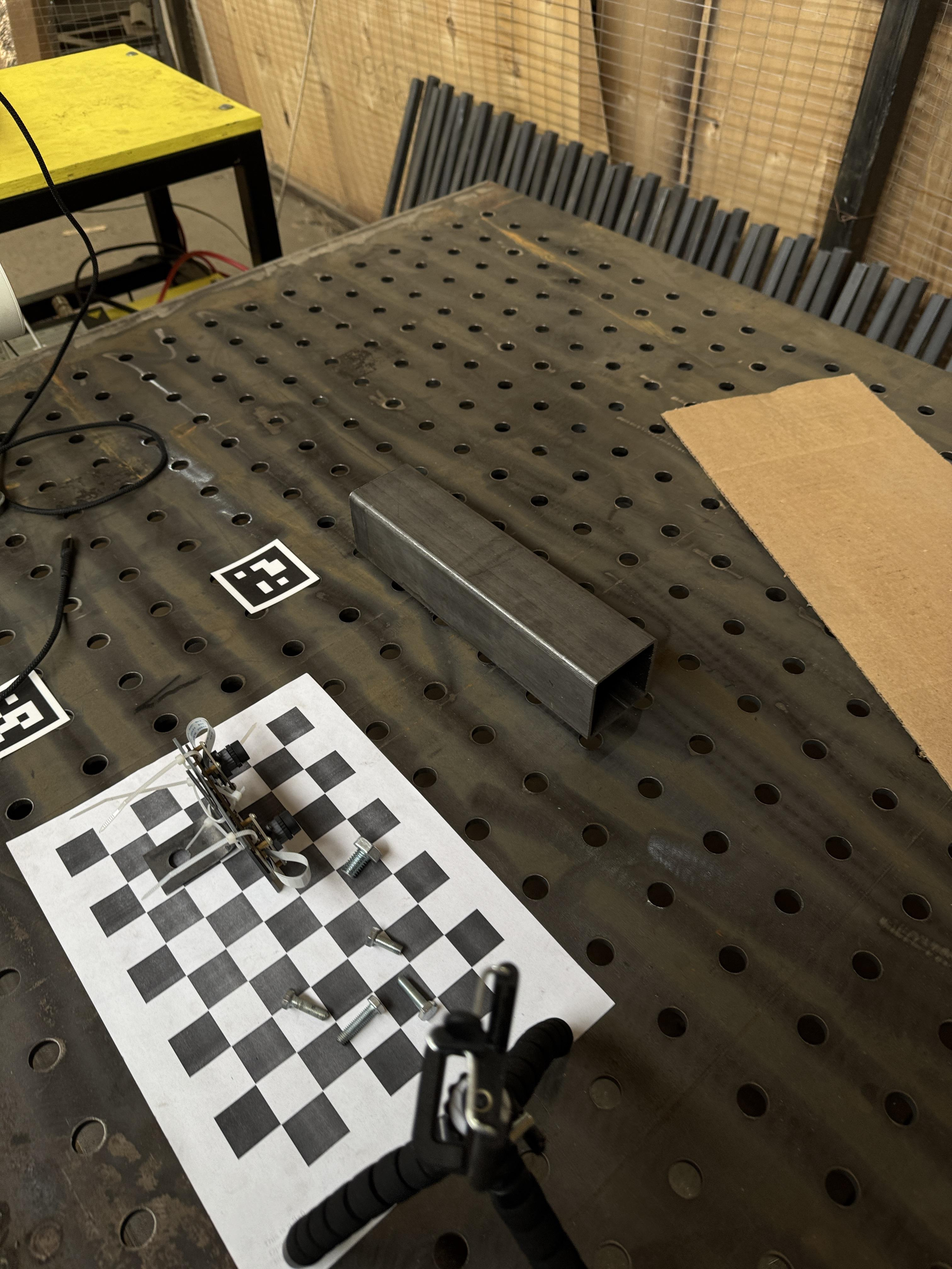detail: (349, 462, 658, 740)
